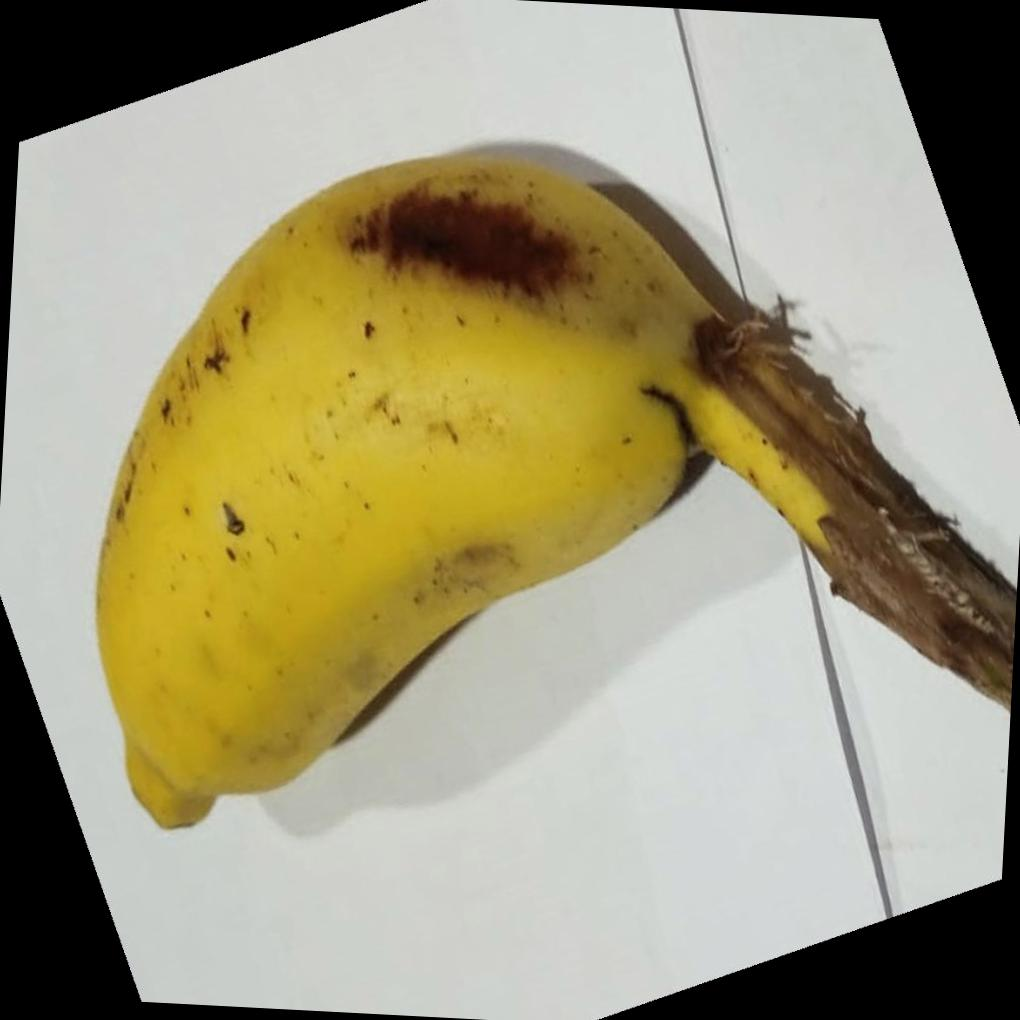Banana Ripe: (85, 113, 1020, 858)
